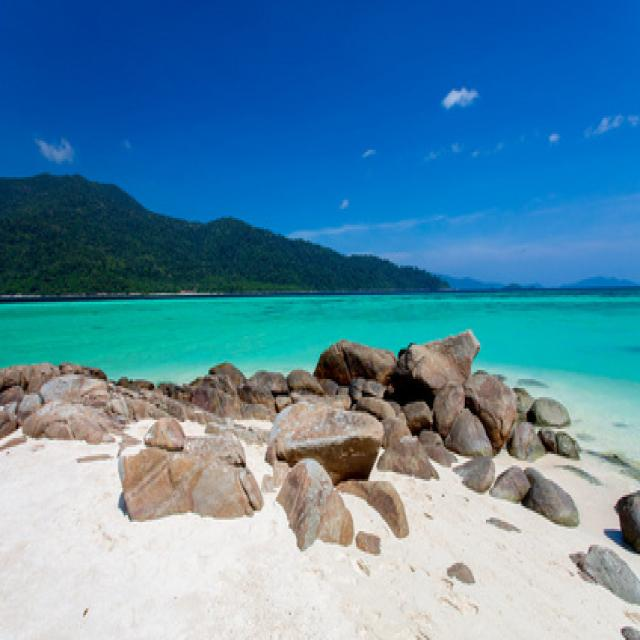island: (0, 150, 462, 311)
